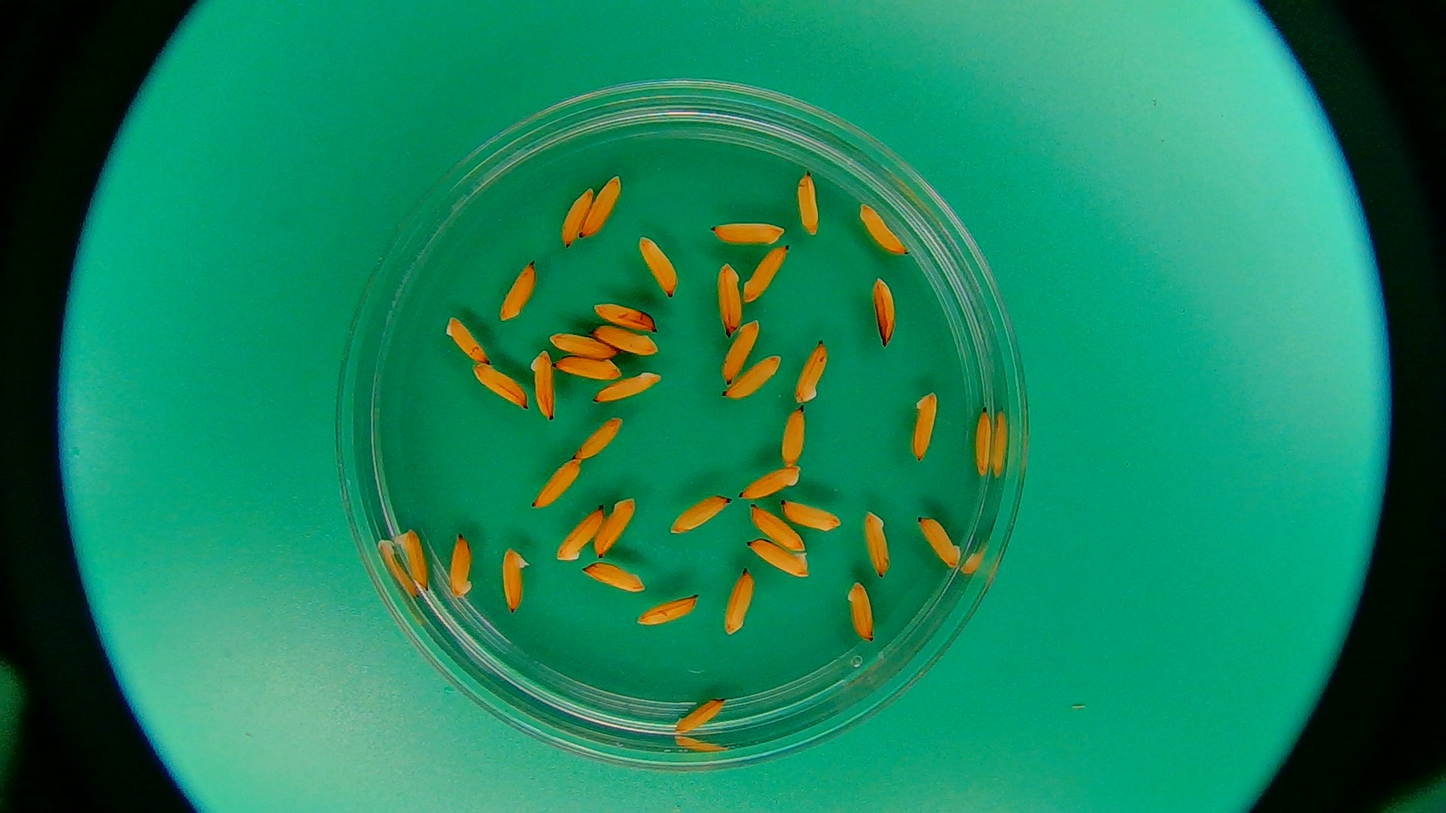no: (491, 547, 542, 629), (576, 172, 624, 249), (718, 349, 782, 406), (856, 198, 914, 259), (636, 233, 685, 303), (471, 358, 529, 417), (737, 242, 792, 304), (551, 500, 603, 565), (386, 525, 438, 590), (786, 168, 834, 238), (589, 494, 640, 559), (737, 537, 814, 580), (496, 257, 541, 330), (556, 183, 600, 257), (717, 315, 761, 388), (748, 499, 807, 553), (668, 689, 731, 738), (441, 525, 478, 608), (587, 297, 660, 339), (669, 491, 733, 538), (712, 259, 749, 340), (697, 214, 790, 246), (441, 315, 496, 369), (903, 389, 942, 465), (856, 506, 895, 582), (843, 577, 882, 653), (793, 336, 835, 405), (589, 369, 665, 406), (529, 457, 583, 508), (590, 324, 660, 363), (569, 417, 622, 468), (719, 568, 756, 641), (917, 511, 962, 571), (524, 346, 558, 424), (737, 461, 803, 501), (778, 493, 842, 534), (633, 591, 700, 627), (581, 561, 647, 597), (550, 352, 623, 384), (870, 271, 900, 348), (546, 333, 619, 364), (782, 404, 810, 469), (972, 403, 994, 480)
